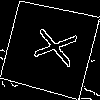X: (24, 24, 78, 68)
